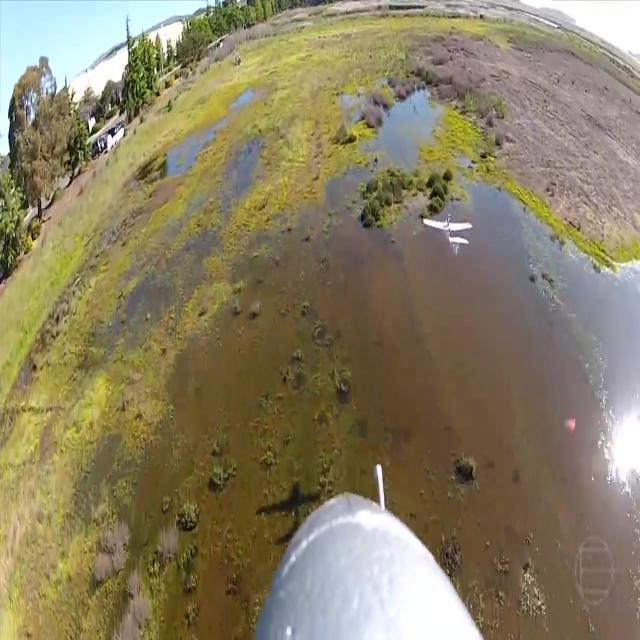iha: (421, 213, 474, 256)
